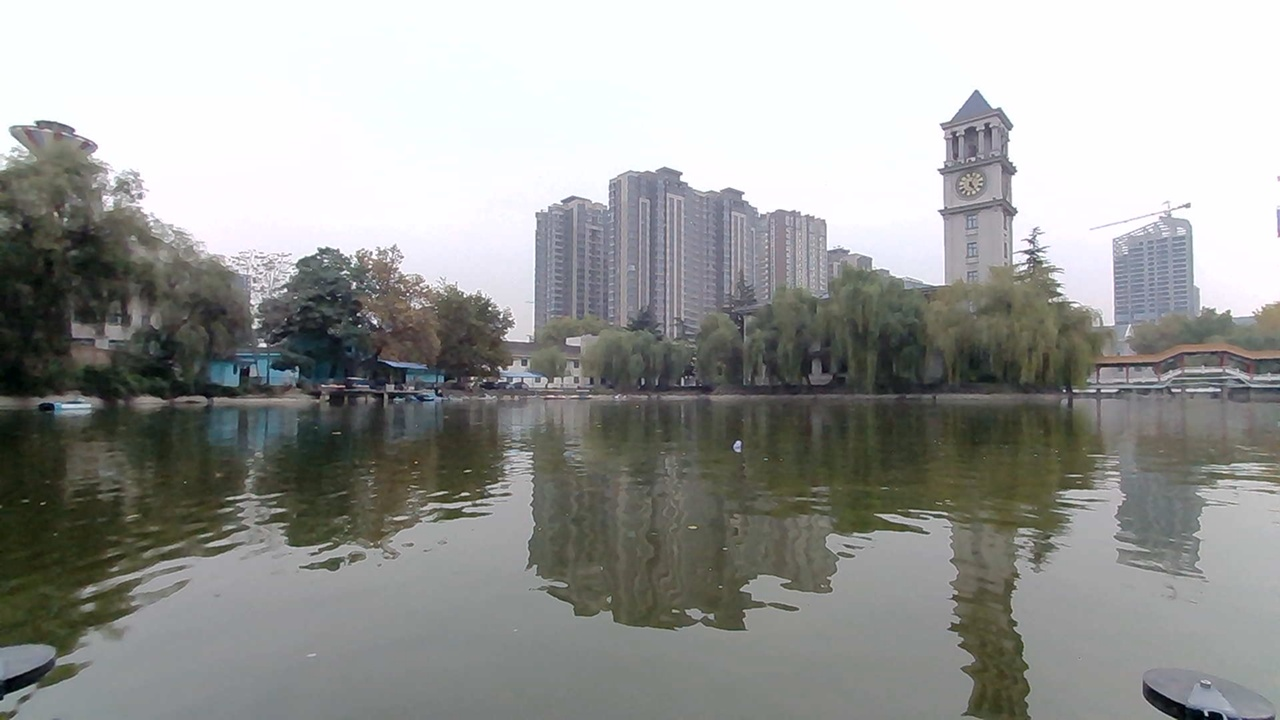bottle: (715, 424, 767, 456), (1244, 413, 1276, 432)
